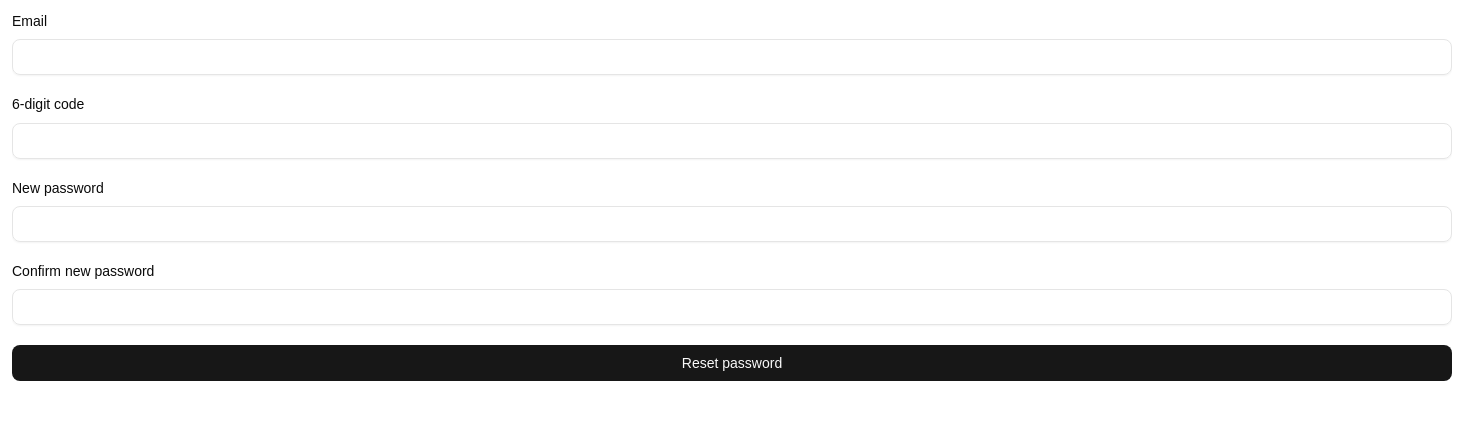
Test: ResetPasswordForm › shows the generic invalid/used-OTP message on a 401 response
Type "a@b.com" into the field labelled "Email" at (732, 57), box [12, 39, 1452, 75]
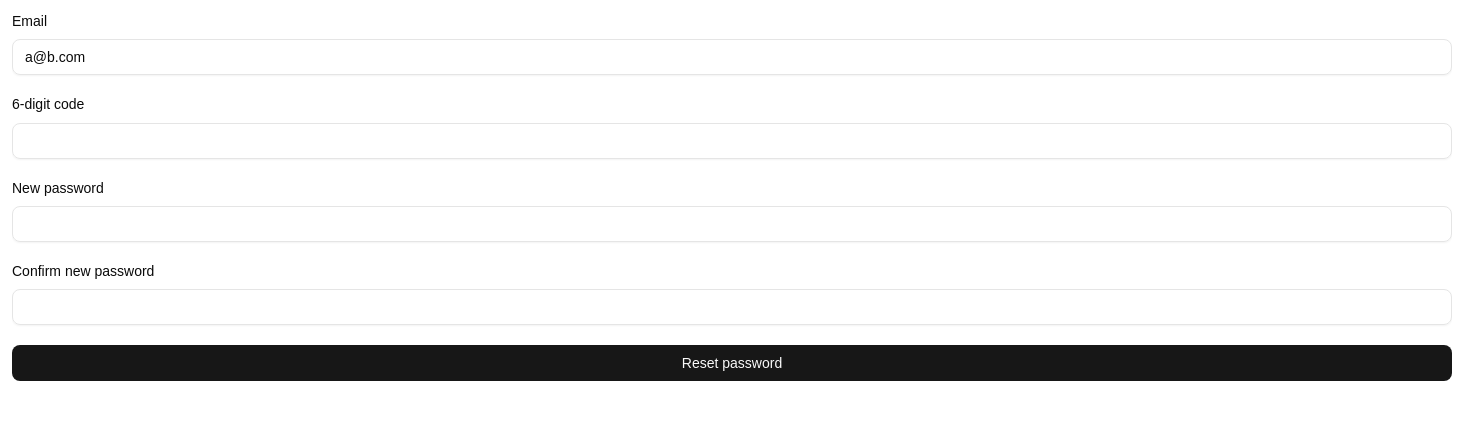
Type "123456" into the field labelled "6-digit code" at (732, 140), box [12, 122, 1452, 158]
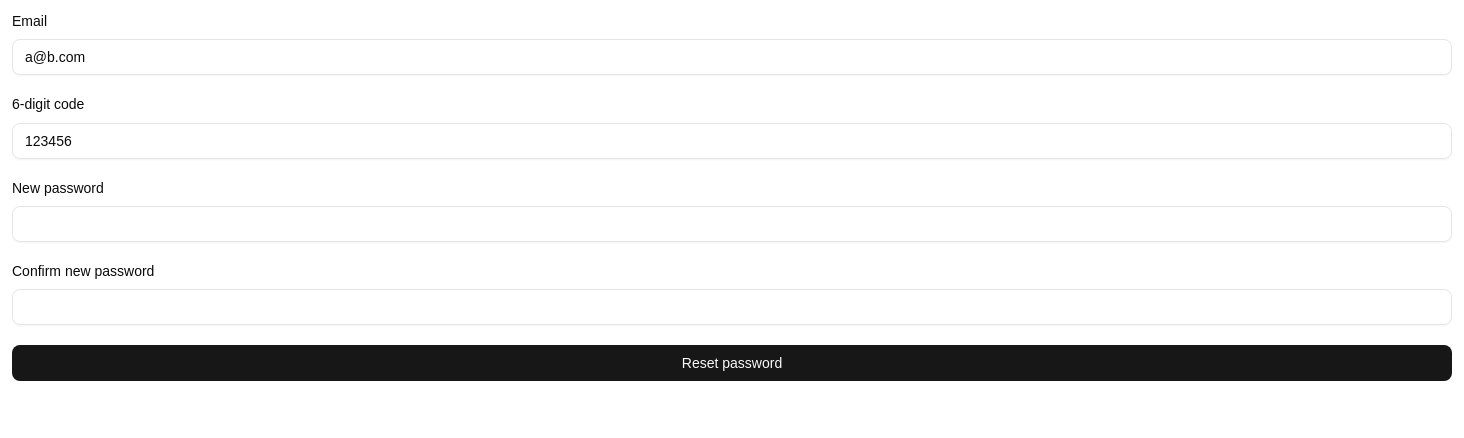
Type "newpass1" into the password field labelled "New password" at (732, 224), box [12, 206, 1452, 242]
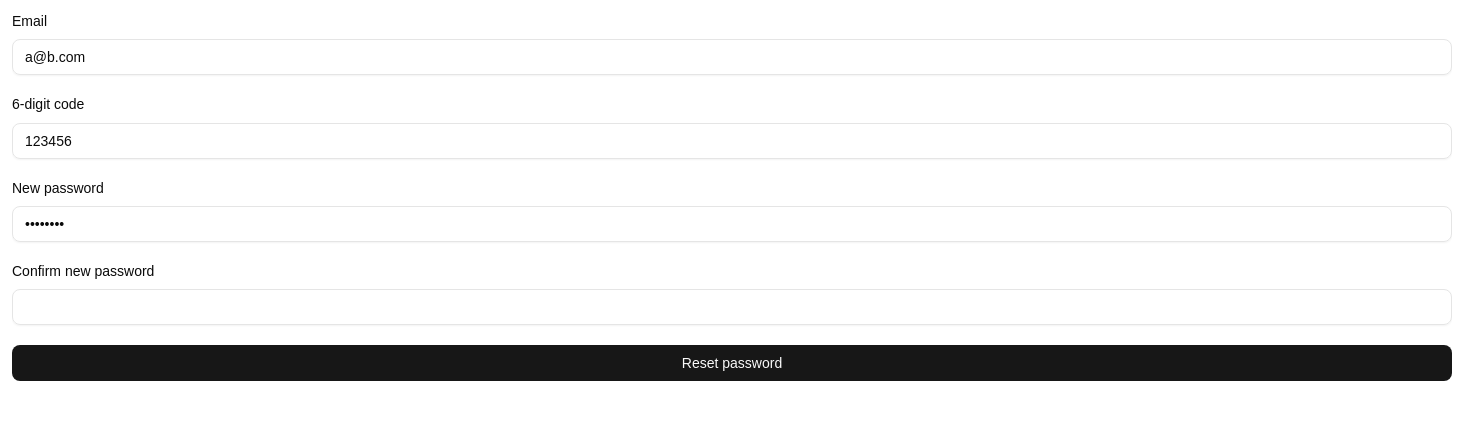
Type "newpass1" into the password field labelled "Confirm new password" at (732, 307), box [12, 289, 1452, 325]
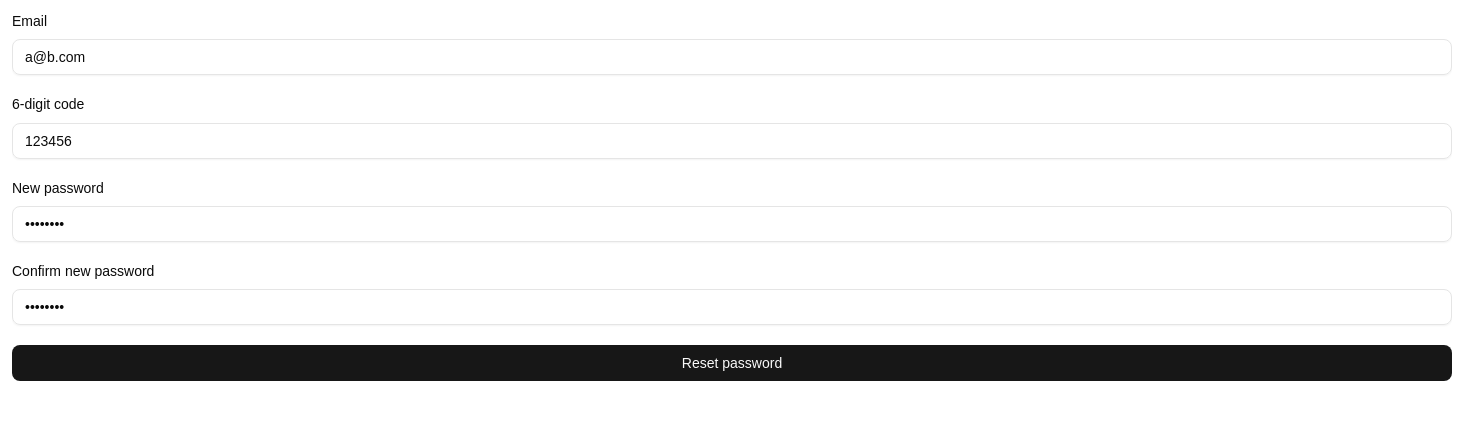
Click the button "Reset password" at (732, 363), box [12, 345, 1452, 381]
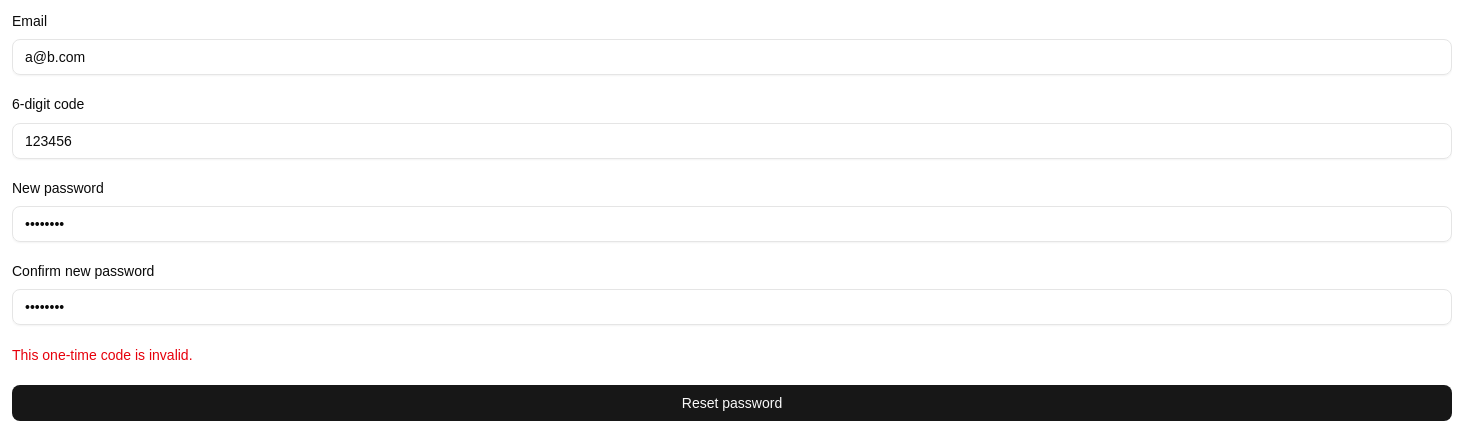
Check: the message reads "This one-time code is invalid.", box [12, 347, 192, 363]
